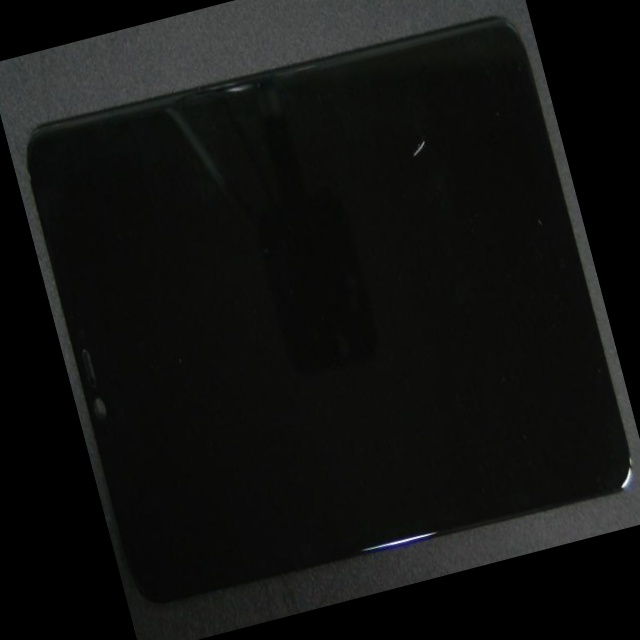scratch: (221, 40, 576, 275)
